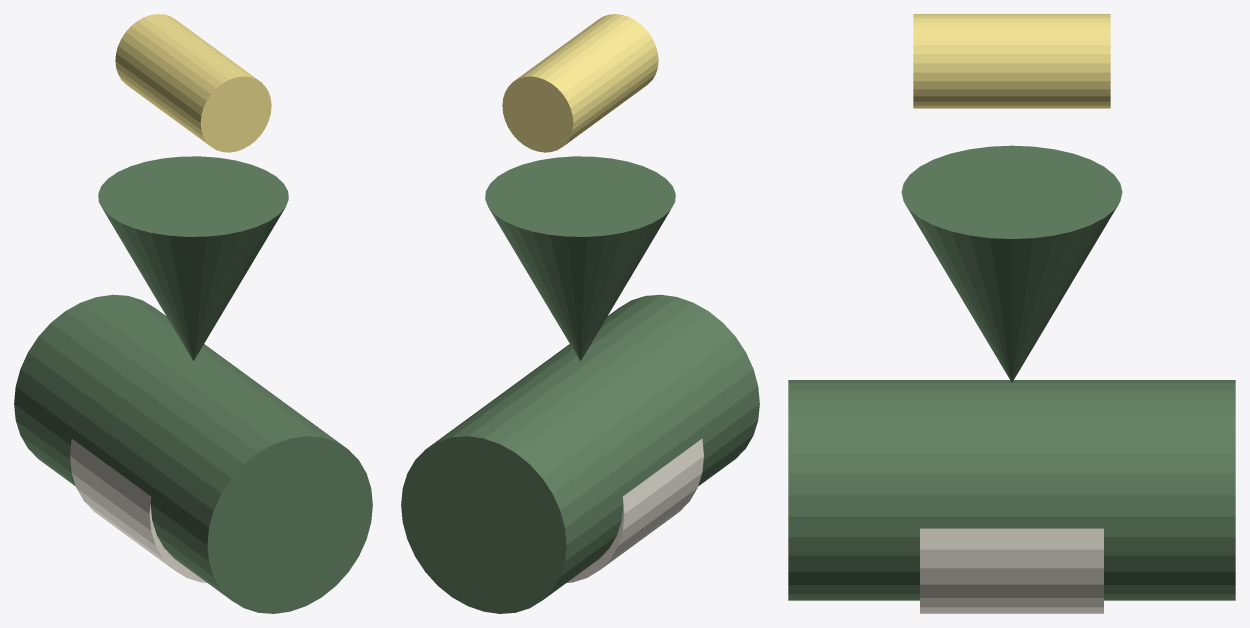
File: champagne-bottle.glb
3 views of the same model, side by side, from view 1: azimuth 30°, elevation 25°; view 2: azimuth 150°, elevation 25°; view 3: azimuth 270°, elevation 25° (orthographic). The views are drawn at different scales.
Visible parts, largest first — view 1: champagne_body, champagne_neck, champagne_foil, champagne_label; view 2: champagne_body, champagne_neck, champagne_foil, champagne_label; view 3: champagne_body, champagne_neck, champagne_foil, champagne_label.
Boxes of the visible parts, x1,y1,x2,y2 form: champagne_body: (14,294,372,613); champagne_neck: (98,156,288,361); champagne_foil: (115,14,271,152); champagne_label: (70,439,206,582); champagne_body: (401,294,759,613); champagne_neck: (485,156,675,361); champagne_foil: (502,14,658,152); champagne_label: (567,439,703,582); champagne_body: (788,380,1235,600); champagne_neck: (901,145,1122,382); champagne_foil: (913,14,1110,108); champagne_label: (920,528,1103,613).
Bounding box in the file's own units: 0.085 × 0.2455 × 0.17.
